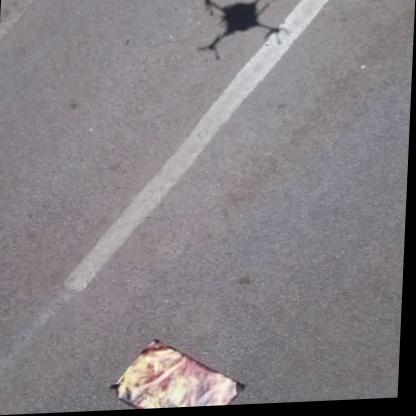fire-poster: (110, 337, 250, 412)
